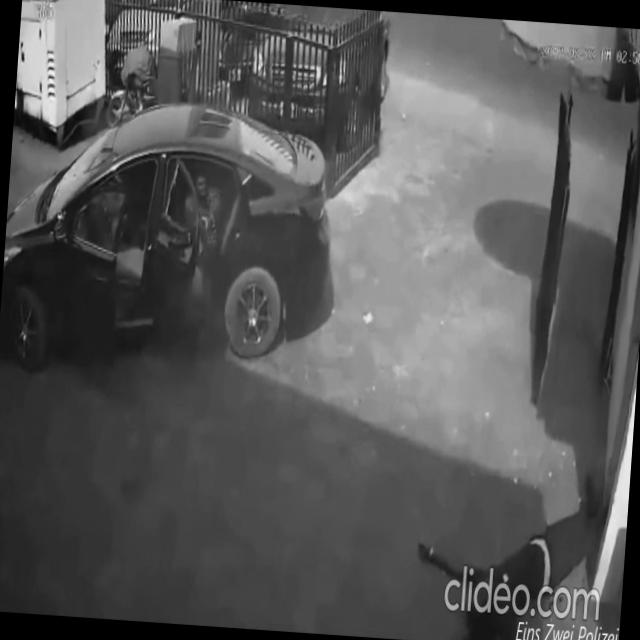gun: (195, 208, 220, 258)
person: (409, 471, 608, 640)
person with a gun: (168, 162, 232, 350)
